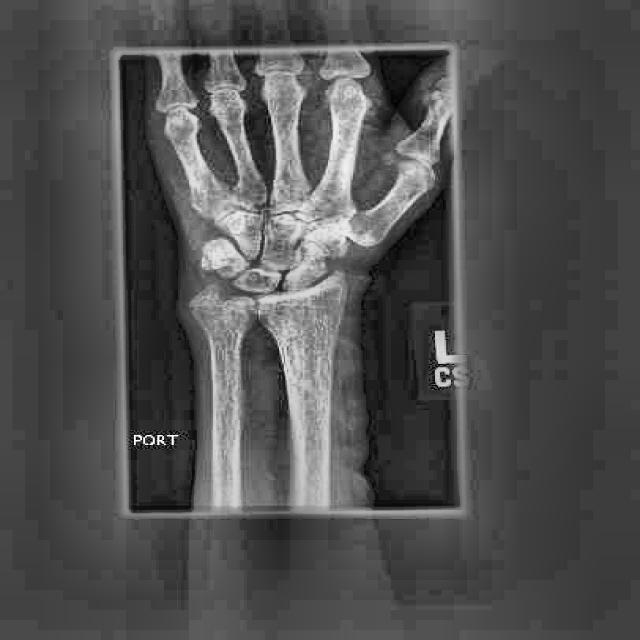fingers positive: (306, 282, 358, 339), (293, 248, 351, 286)
